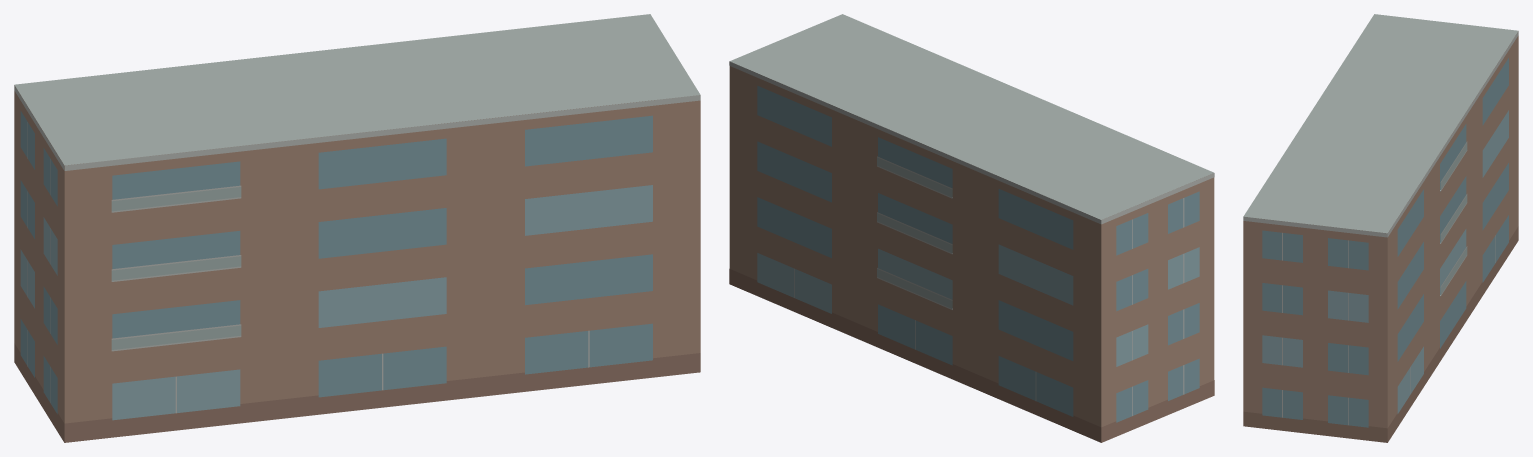
The model's file is residential-96a7a8b9-6368-47fa-af87-e1ce490df953.glb.
3 views of the same model, side by side, from view 1: azimuth 30°, elevation 25°; view 2: azimuth 150°, elevation 25°; view 3: azimuth 270°, elevation 25° (orthographic). The views are drawn at different scales.
Visible parts, largest first — view 1: residential-96a7a8b9-6368-47fa-af87-e1ce490df953.tmp; view 2: residential-96a7a8b9-6368-47fa-af87-e1ce490df953.tmp; view 3: residential-96a7a8b9-6368-47fa-af87-e1ce490df953.tmp.
Boxes of the visible parts, x1=… form: residential-96a7a8b9-6368-47fa-af87-e1ce490df953.tmp: x1=14, y1=14, x2=700, y2=442; residential-96a7a8b9-6368-47fa-af87-e1ce490df953.tmp: x1=729, y1=14, x2=1214, y2=442; residential-96a7a8b9-6368-47fa-af87-e1ce490df953.tmp: x1=1243, y1=14, x2=1518, y2=442.
Bounding box in the file's own units: 27.39 × 12.2 × 14.54.
